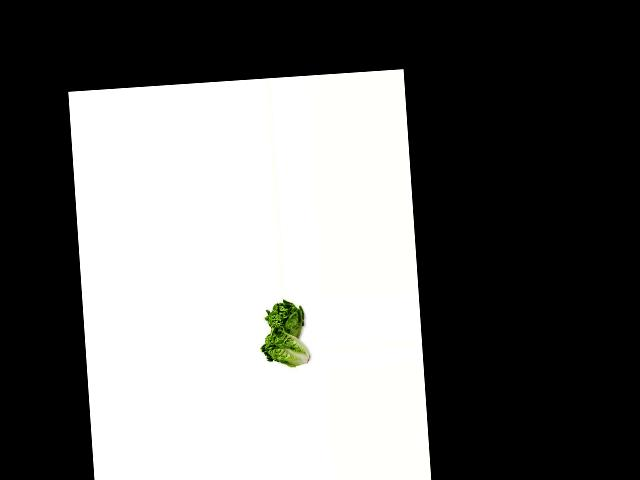lettuce: (263, 298, 311, 343)
